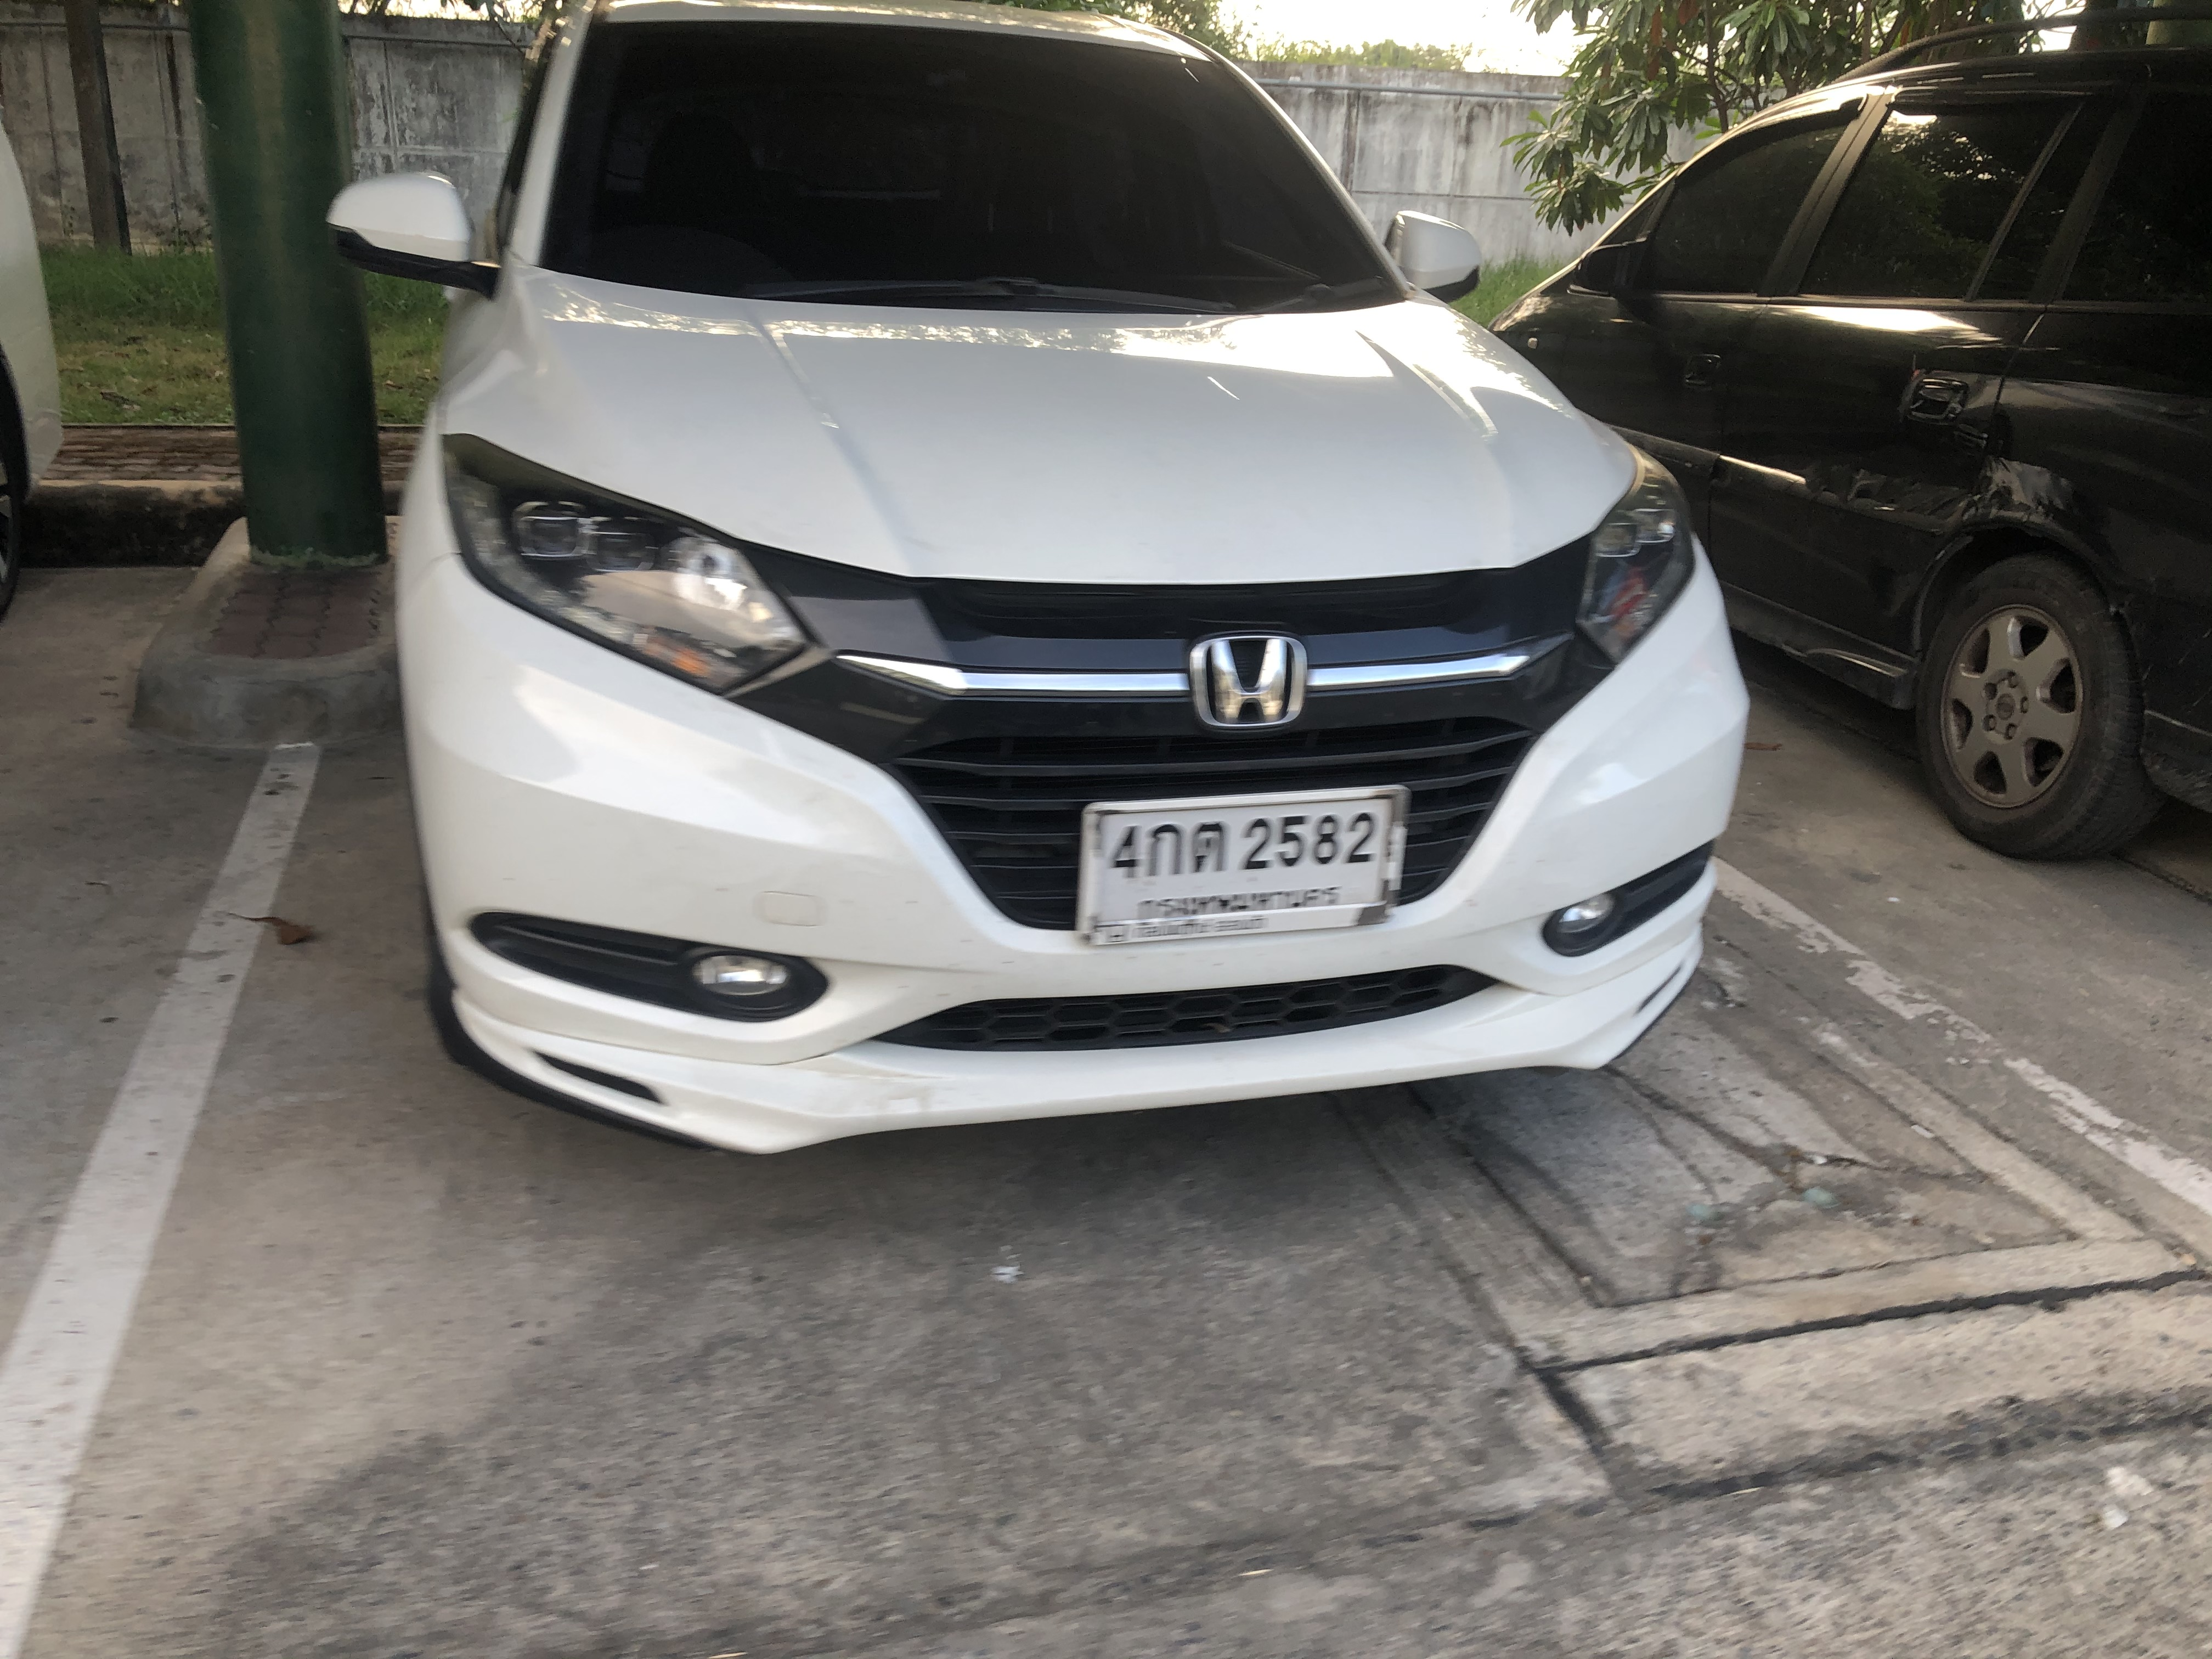in: (1090, 812, 1386, 911)
out: (1071, 786, 1399, 936)
